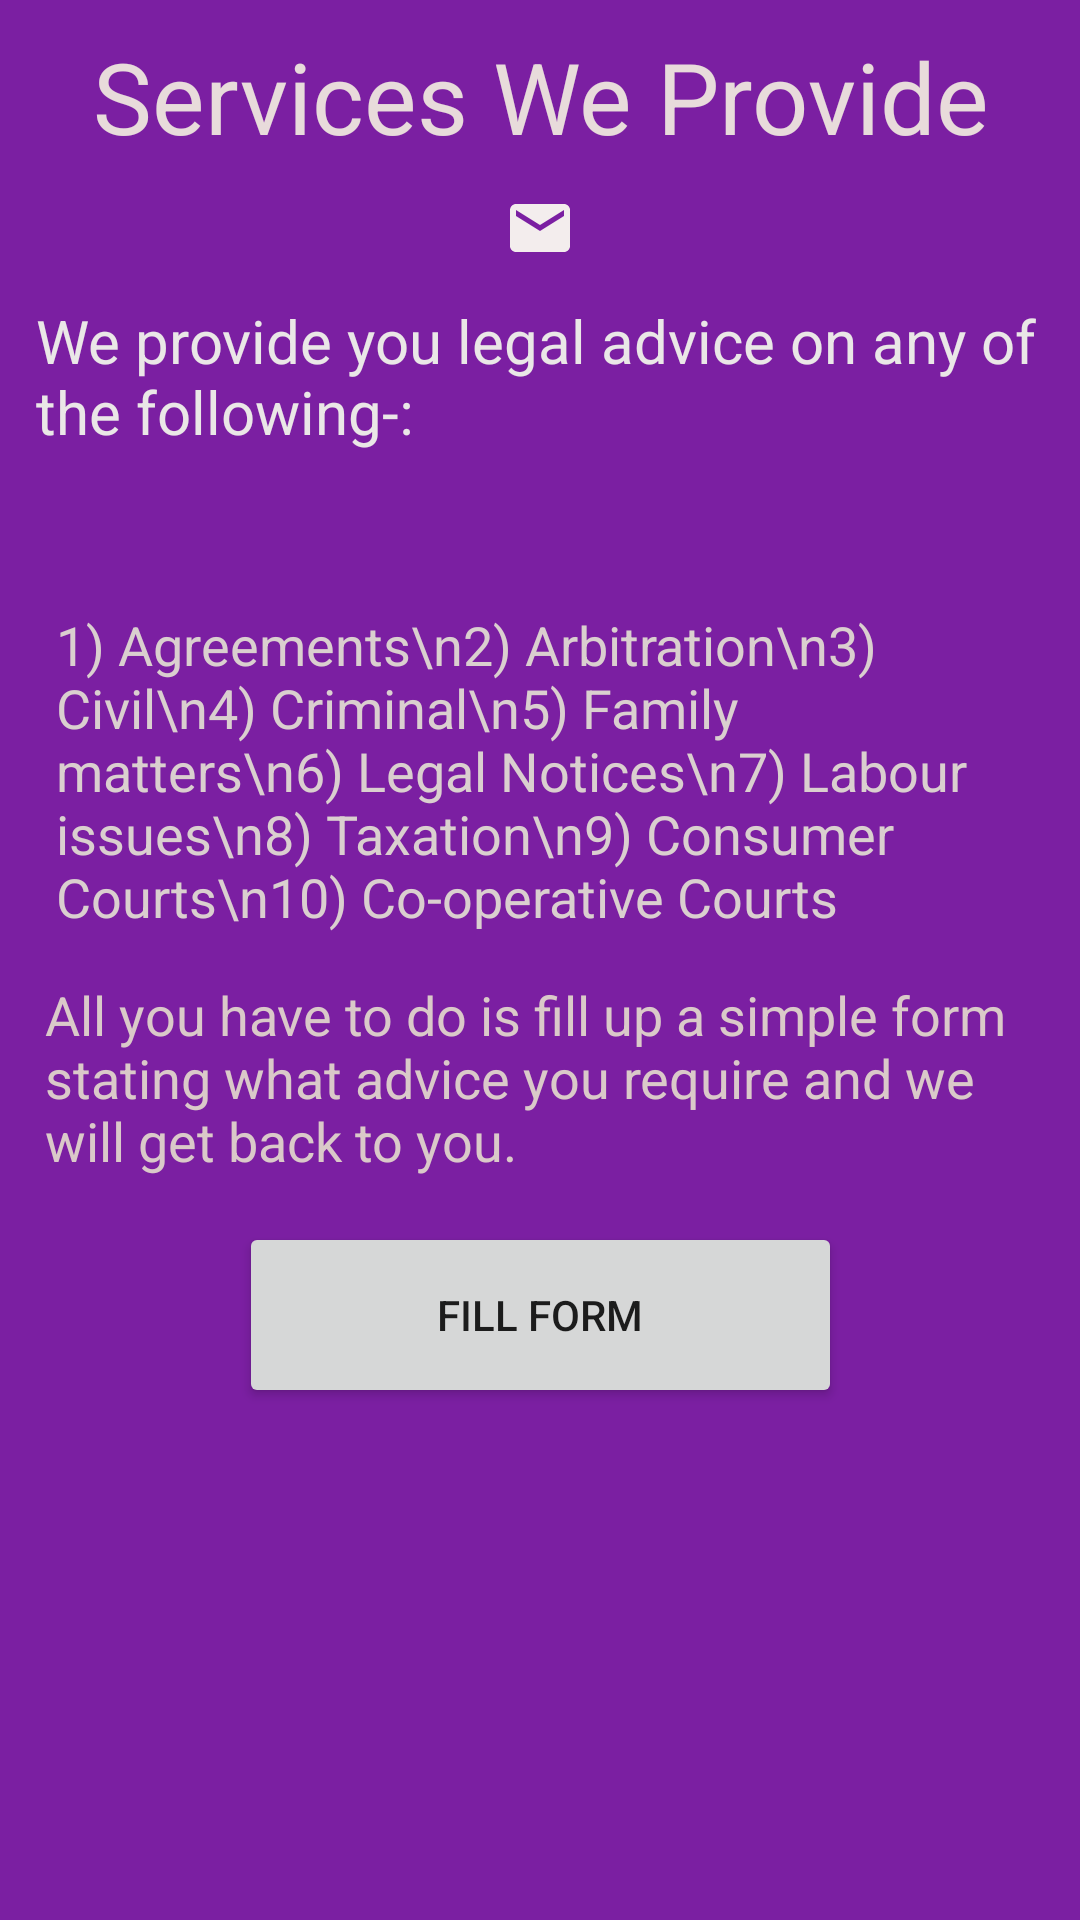

Where icons sit on this 1080 x 1920 app screen, as (x1, y1, x2, y2):
email: (510, 204, 570, 252)
